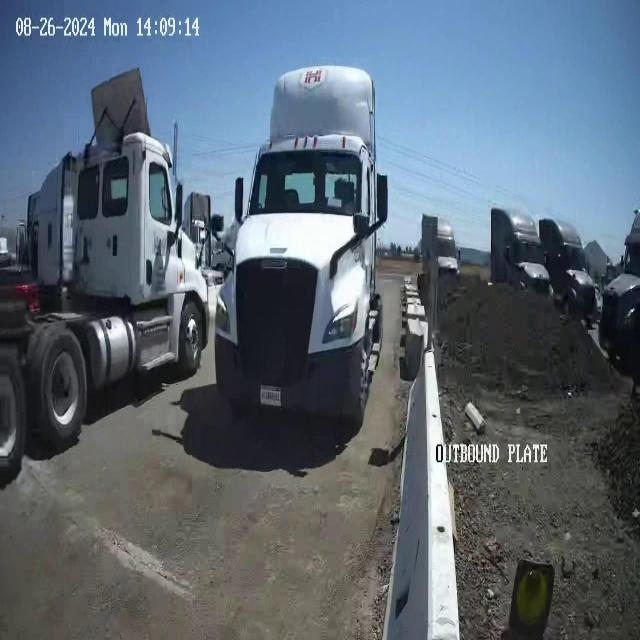BOBTAIL: (2, 64, 209, 472), (212, 63, 388, 430)
